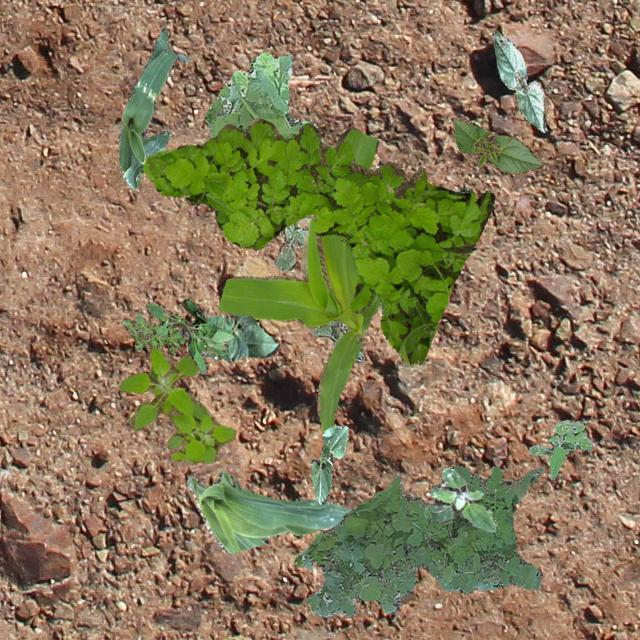crop: (216, 126, 380, 432), (186, 470, 352, 552), (118, 28, 188, 188), (492, 30, 546, 132), (452, 116, 540, 172), (178, 314, 278, 359), (310, 424, 348, 504)
weed: (142, 116, 494, 364), (292, 464, 544, 616), (274, 220, 382, 362), (118, 348, 235, 462), (204, 50, 316, 140), (144, 298, 233, 372), (423, 466, 498, 532), (528, 418, 592, 478), (121, 312, 188, 353), (458, 186, 470, 192)
